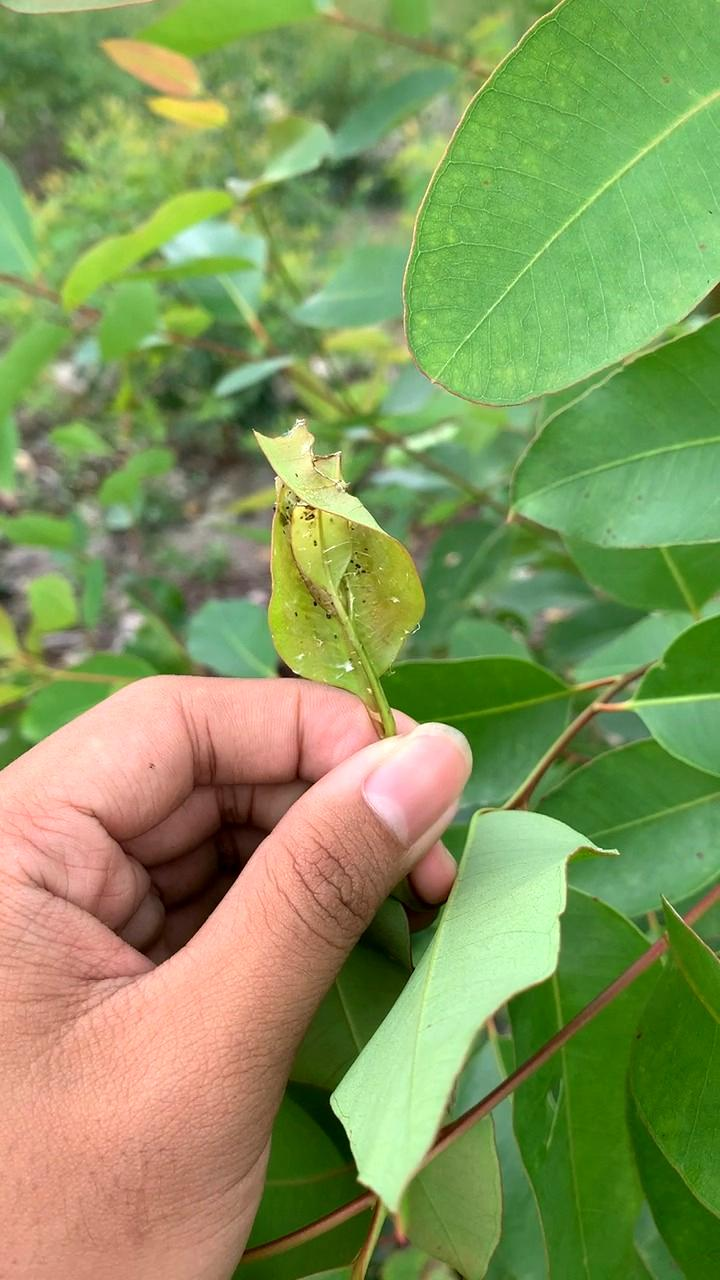Leaf Roller - Leaf: (235, 410, 438, 710)
